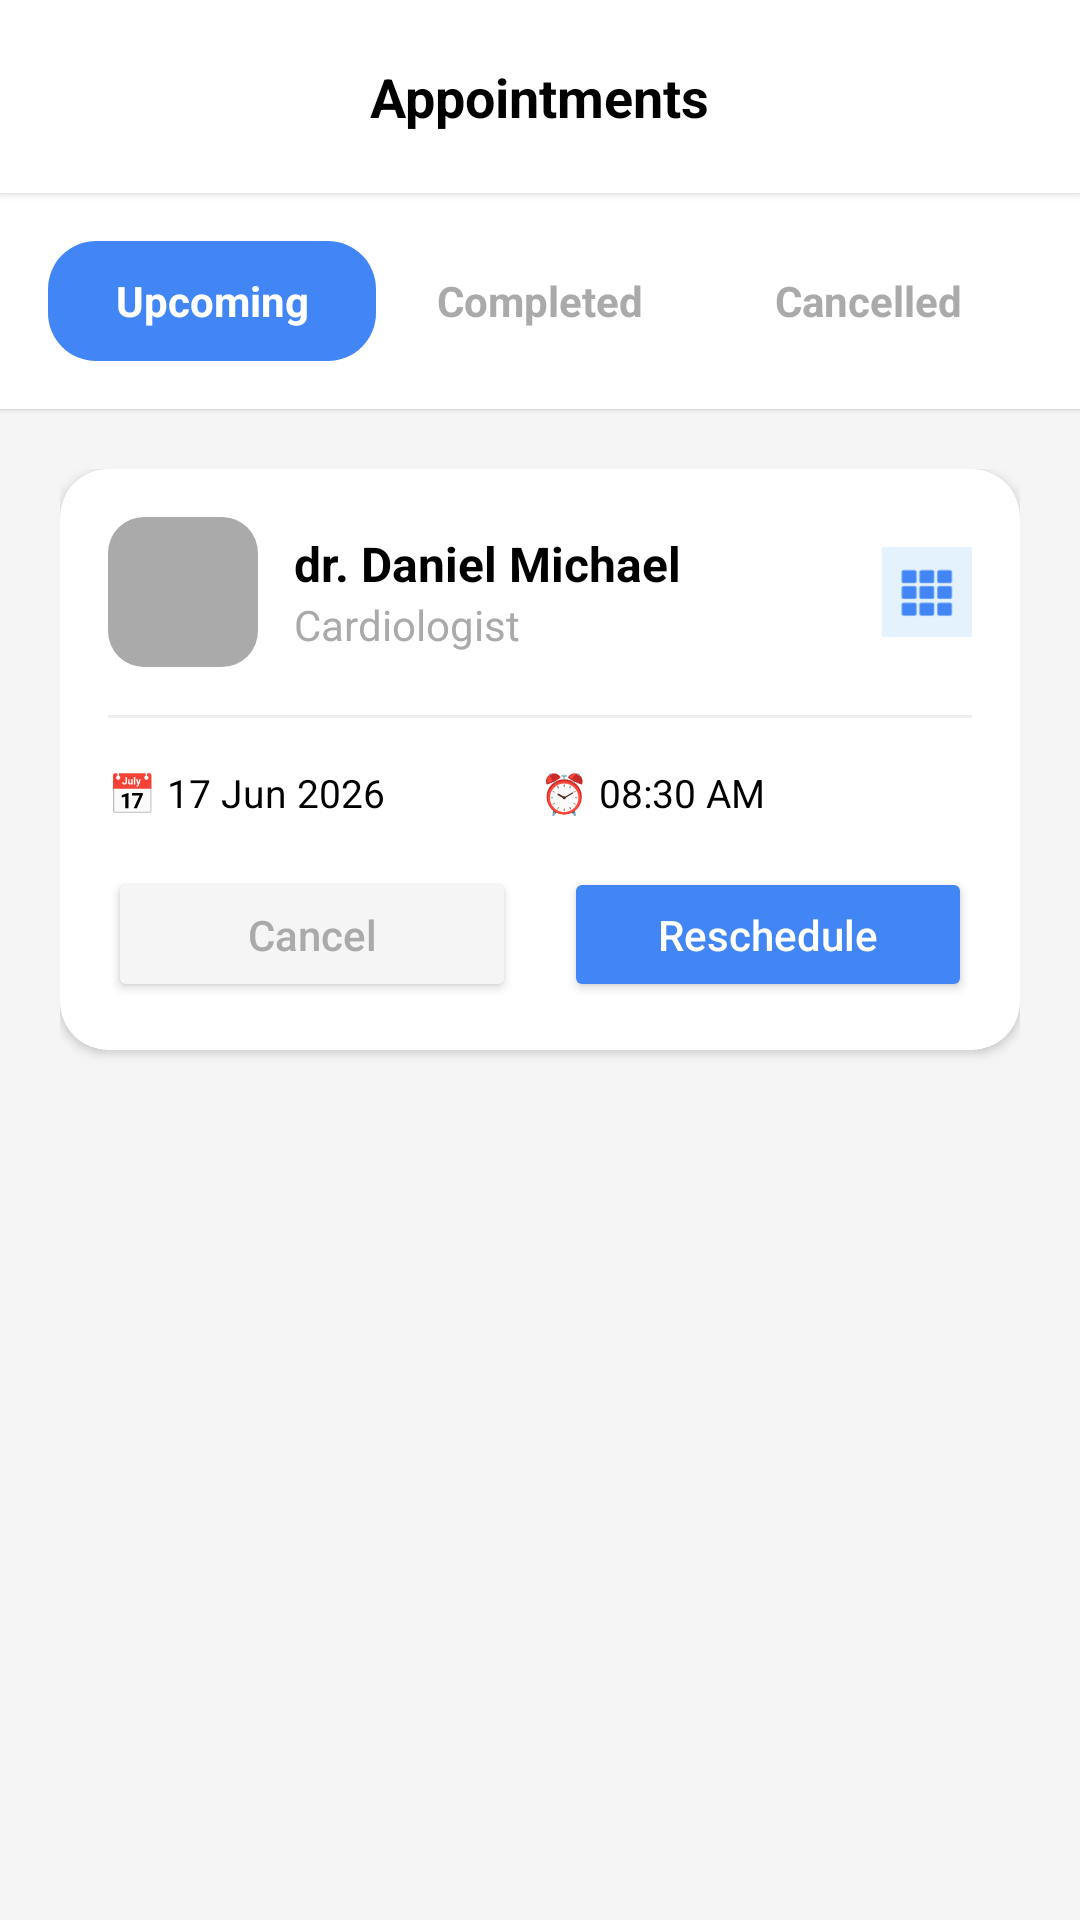

Locate icon controls on the screen. Image size 1080x1920, boxes as (x1,y1,x2,y2).
dialer: (882,547,972,637)
